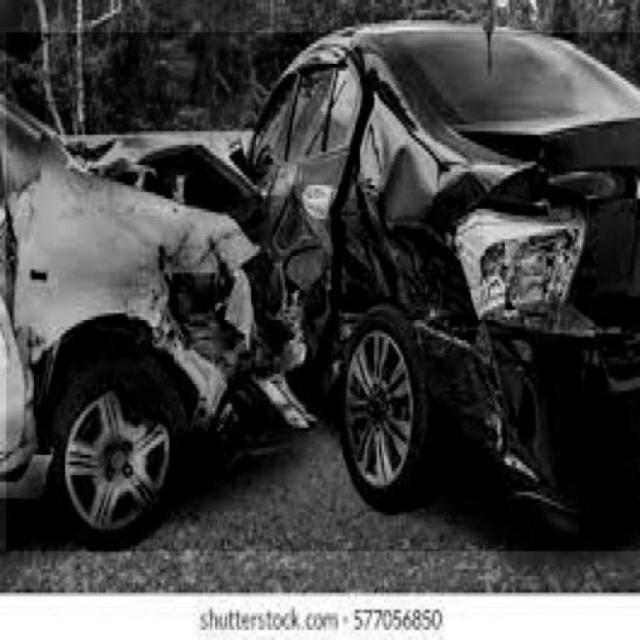accident: (6, 32, 640, 550)
